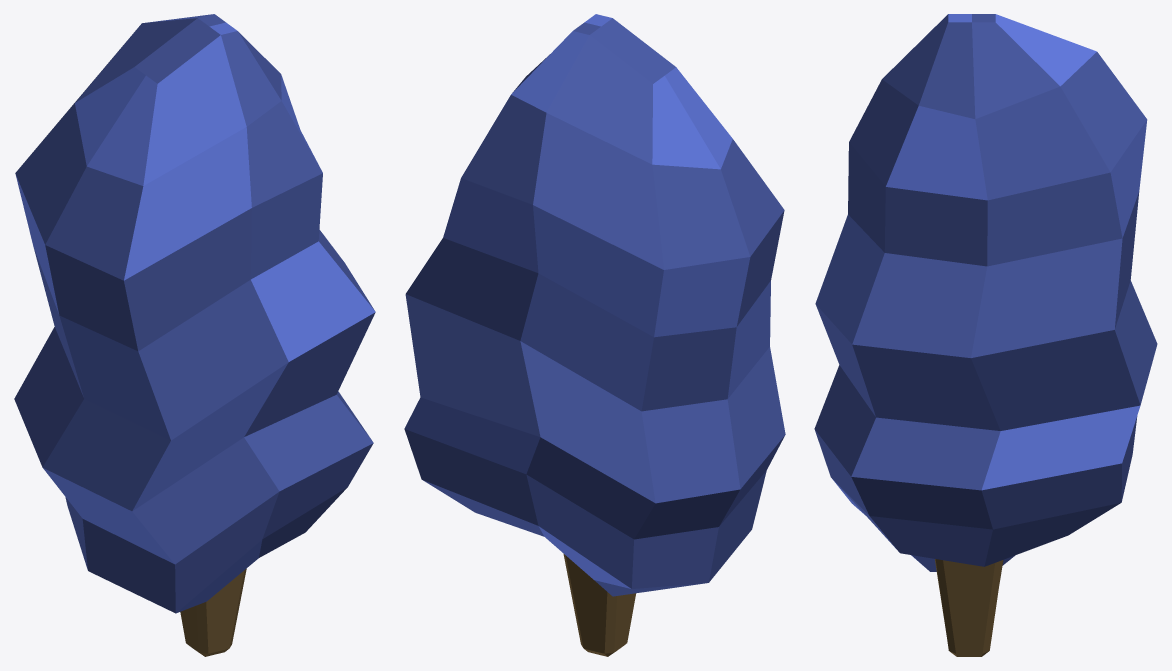
File: Tree_2_Blue.fbx
The picture shows the model from 3 angles, left to right: view 1: azimuth 30°, elevation 25°; view 2: azimuth 150°, elevation 25°; view 3: azimuth 270°, elevation 25°; orthographic projection. The views are drawn at different scales.
Parts seen in each view (by area): view 1: Tree_2_Blue_Part_2, Tree_2_Blue_Part_3, Tree_2_Blue_Part_1; view 2: Tree_2_Blue_Part_2, Tree_2_Blue_Part_3, Tree_2_Blue_Part_1; view 3: Tree_2_Blue_Part_2, Tree_2_Blue_Part_3, Tree_2_Blue_Part_1.
Boxes of the visible parts, x1=… form: Tree_2_Blue_Part_2: x1=14, y1=14, x2=375, y2=613; Tree_2_Blue_Part_3: x1=15, y1=14, x2=375, y2=613; Tree_2_Blue_Part_1: x1=180, y1=568, x2=246, y2=656; Tree_2_Blue_Part_2: x1=404, y1=18, x2=785, y2=596; Tree_2_Blue_Part_3: x1=404, y1=14, x2=784, y2=588; Tree_2_Blue_Part_1: x1=563, y1=553, x2=635, y2=656; Tree_2_Blue_Part_2: x1=814, y1=14, x2=1157, y2=566; Tree_2_Blue_Part_3: x1=815, y1=14, x2=1147, y2=571; Tree_2_Blue_Part_1: x1=935, y1=559, x2=1003, y2=656.
Size of the model in its own units: 237 by 483 by 235.
